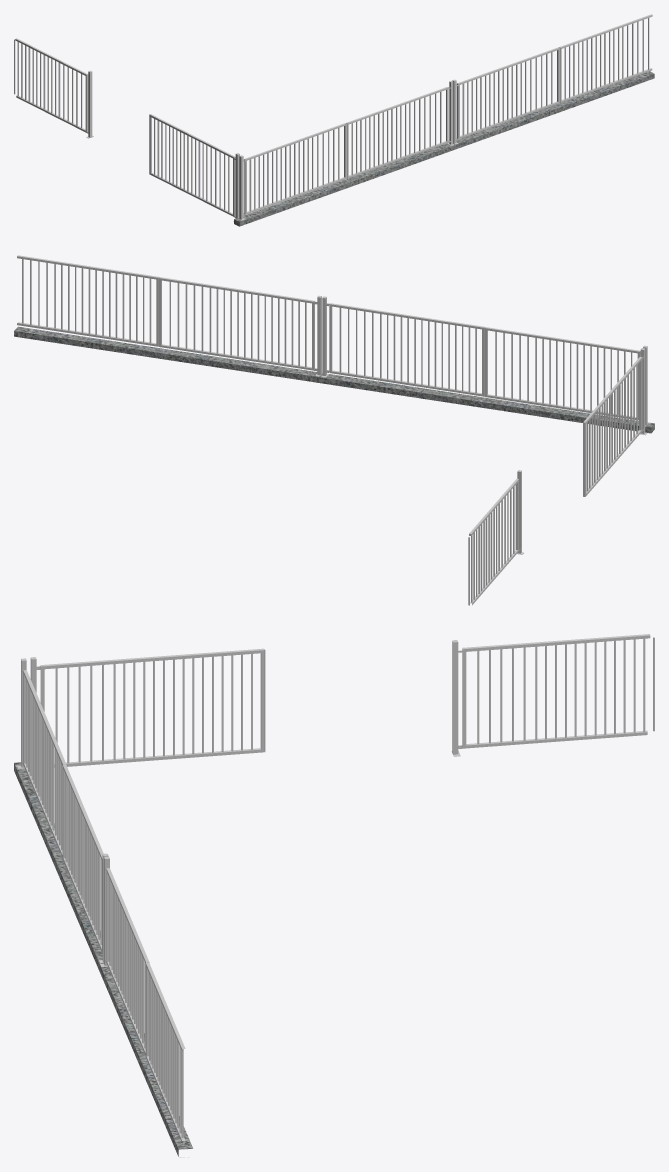
The model's file is Patio1ObjetosGolCerca.gltf.
The picture shows the model from 3 angles, top to bottom: view 1: azimuth 30°, elevation 25°; view 2: azimuth 150°, elevation 25°; view 3: azimuth 270°, elevation 25°; orthographic projection. The views are drawn at different scales.
Parts seen in each view (by area): view 1: node1, node2; view 2: node1, node2; view 3: node1, node2.
Part boxes in pixels (bbox=[...]): node1: bbox=[14, 14, 652, 221]; node2: bbox=[234, 71, 654, 226]; node1: bbox=[17, 255, 648, 605]; node2: bbox=[14, 326, 654, 433]; node1: bbox=[17, 634, 654, 1157]; node2: bbox=[14, 762, 193, 1156].
Bounding box in the file's own units: 20.65 × 2.66 × 13.34.
